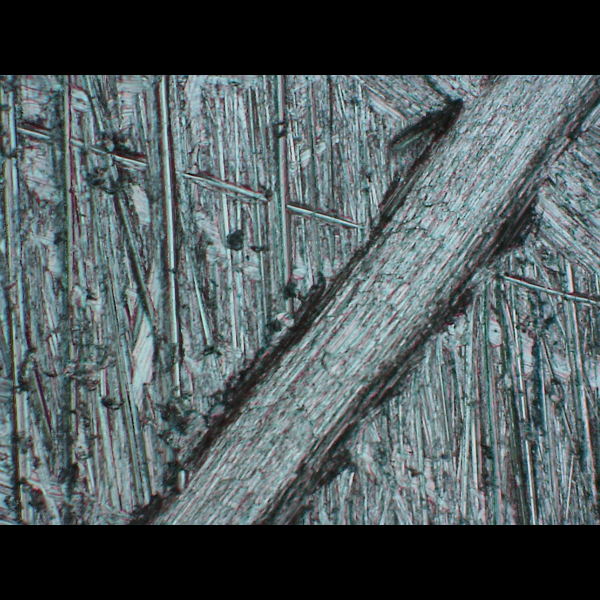d: (113, 75, 600, 522)
